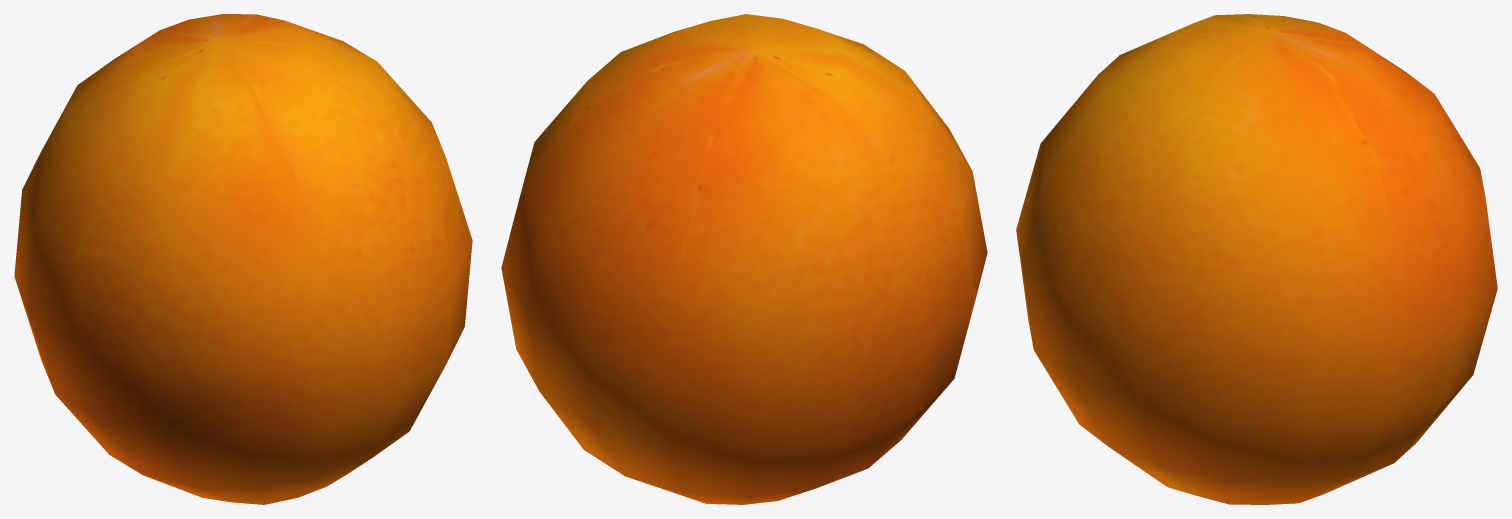
File: orange_part_2.FBX
3 views of the same model, side by side, from view 1: azimuth 30°, elevation 25°; view 2: azimuth 150°, elevation 25°; view 3: azimuth 270°, elevation 25° (orthographic).
Visible parts, largest first — view 1: orange_part_2; view 2: orange_part_2; view 3: orange_part_2.
Part boxes in pixels (x1,y1,x2,y2): orange_part_2: [14, 14, 472, 504]; orange_part_2: [501, 14, 987, 504]; orange_part_2: [1016, 14, 1497, 504].
Bounding box in the file's own units: 0.173 × 0.1837 × 0.1814.
